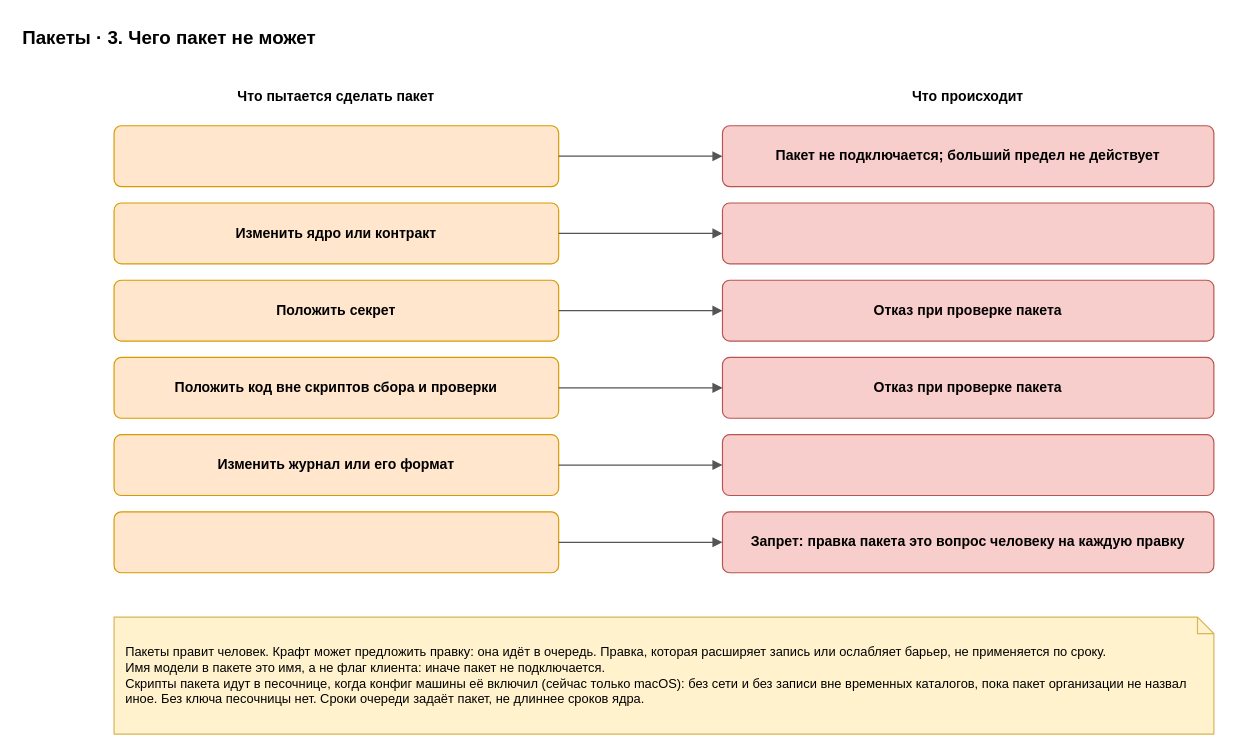
Some shapes in this 1234 by 755 pixel diagram are drawn without their labels. Each missing label, with the centre of its shape:
"Невозможно: журнал принадлежит ядру" goes at [967,464].
"Невозможно: пакет это данные" goes at [967,233].
"Разрешить агенту править пакеты без вопроса" goes at [336,542].
"Расширить список уровня выше" goes at [336,156].
